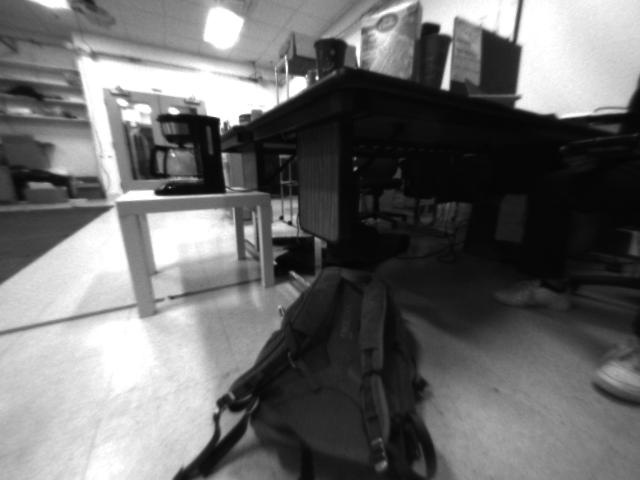coffee_pot: (138, 109, 232, 197)
